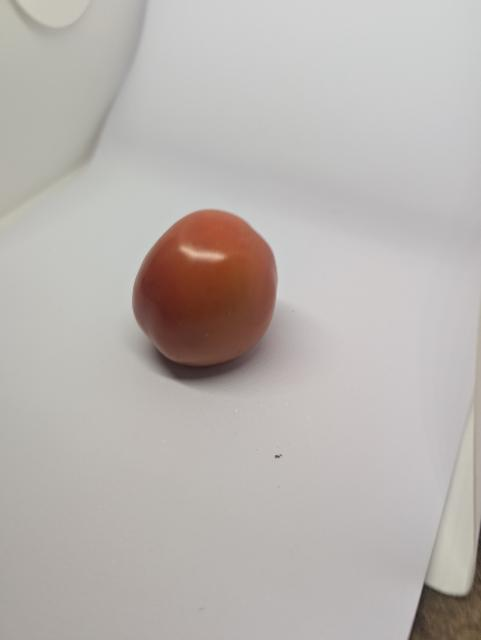red: (126, 205, 286, 384)
